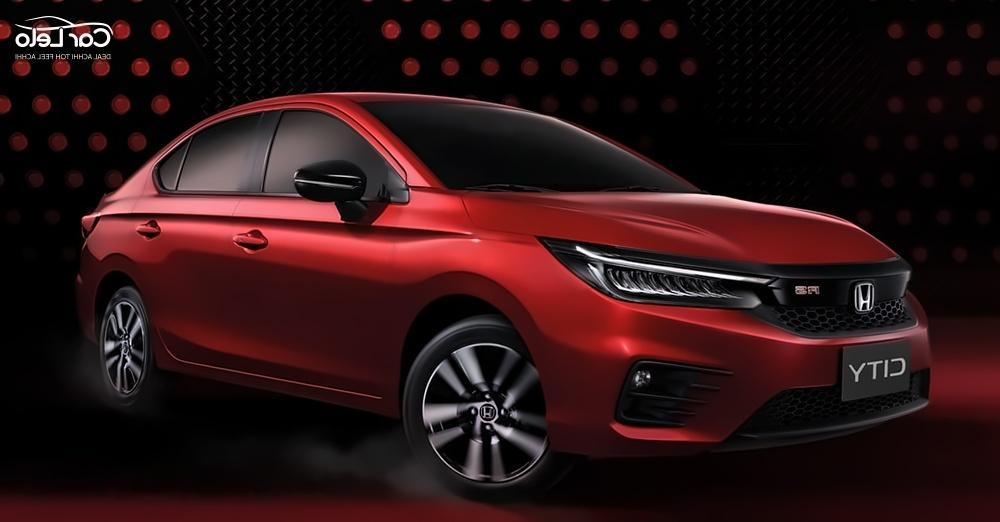Car hood: (456, 180, 906, 263)
Driver-s door - -F-R-: (236, 99, 416, 397)
Fender - -F-R-: (386, 164, 566, 417)
Fender - -R-R-: (100, 192, 176, 367)
Front bumper: (507, 274, 941, 447)
Headlight - -R-: (537, 223, 788, 325)
Passenger-s door - -R-R-: (127, 94, 272, 369)
Rear bumper: (67, 264, 120, 367)
Rear light - -R-: (64, 177, 117, 255)
Side bumper - -R-: (146, 332, 415, 425)
Side mirror - -R-: (287, 142, 381, 220)
